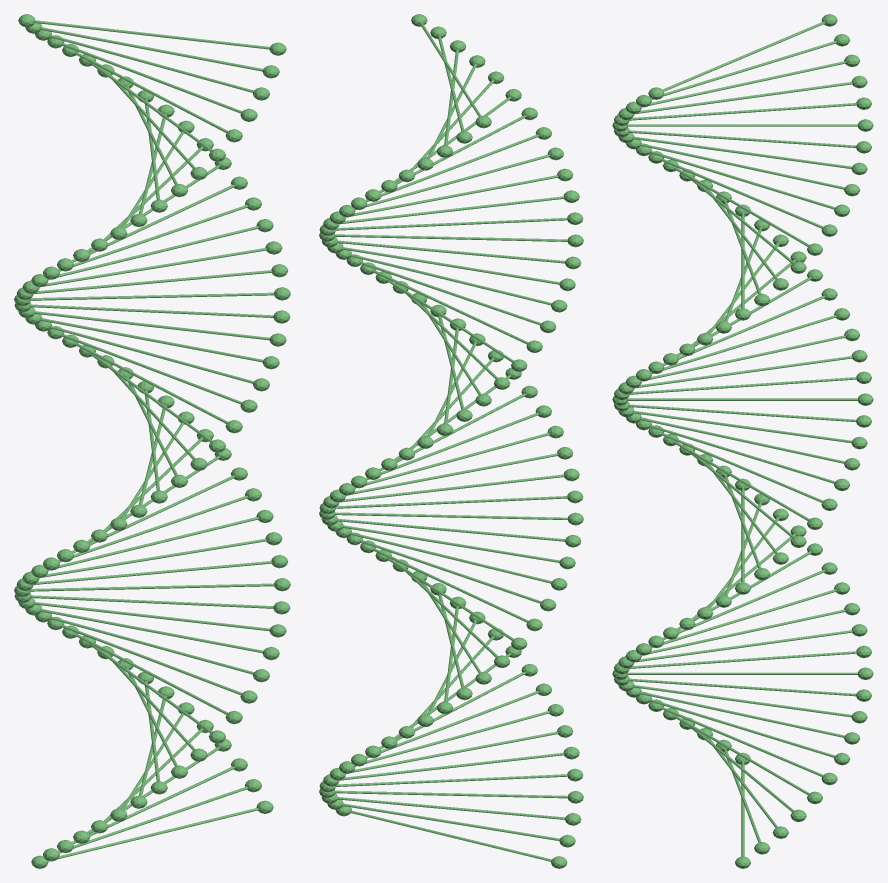
The model's file is dna.glb.
The picture shows the model from 3 angles, left to right: view 1: azimuth 30°, elevation 25°; view 2: azimuth 150°, elevation 25°; view 3: azimuth 270°, elevation 25°; orthographic projection. The views are drawn at different scales.
Parts seen in each view (by area): view 1: Mesh_Mesh_head_geo.001_lambert2SG.001; view 2: Mesh_Mesh_head_geo.001_lambert2SG.001; view 3: Mesh_Mesh_head_geo.001_lambert2SG.001.
Part boxes in pixels (<box>): Mesh_Mesh_head_geo.001_lambert2SG.001: <box>14,14,290,868</box>; Mesh_Mesh_head_geo.001_lambert2SG.001: <box>319,14,583,868</box>; Mesh_Mesh_head_geo.001_lambert2SG.001: <box>612,14,873,868</box>.
Size of the model in its own units: 11 by 35.5 by 11.
